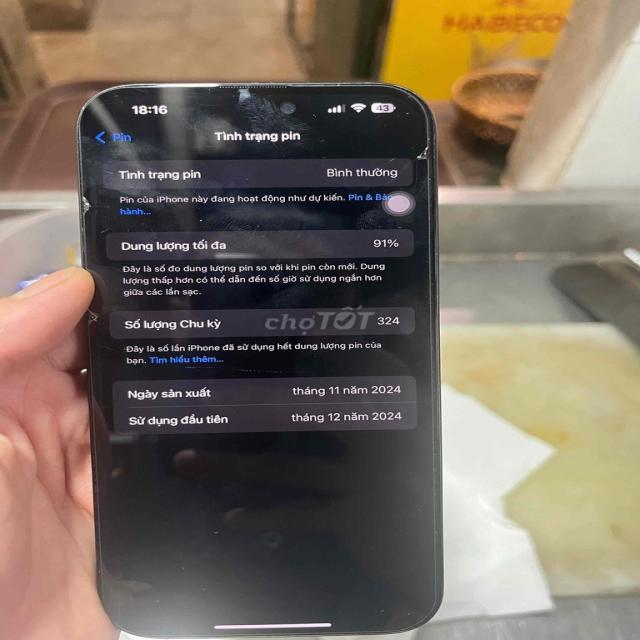scratch: (373, 600, 423, 619), (208, 526, 232, 545), (142, 596, 166, 607)
screen_defect: (72, 183, 106, 256), (408, 131, 442, 177), (82, 301, 105, 334)
